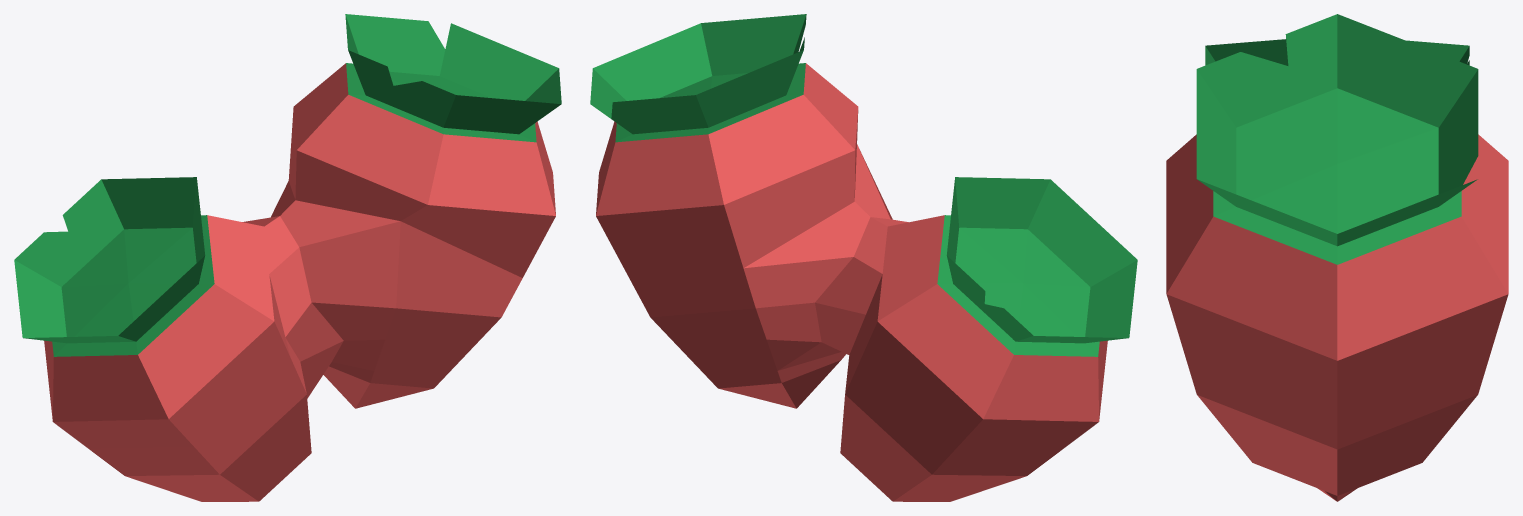
File: JamJam_strawberries.glb
3 views of the same model, side by side, from view 1: azimuth 30°, elevation 25°; view 2: azimuth 150°, elevation 25°; view 3: azimuth 270°, elevation 25° (orthographic). The views are drawn at different scales.
Visible parts, largest first — view 1: strawberries; view 2: strawberries; view 3: strawberries.
Boxes of the visible parts, left/top/right/bottom form: strawberries: left=14, top=14, right=561, bottom=501; strawberries: left=590, top=14, right=1137, bottom=501; strawberries: left=1166, top=14, right=1508, bottom=501.
Size of the model in its own units: 8.73 by 6.5 by 3.79.
